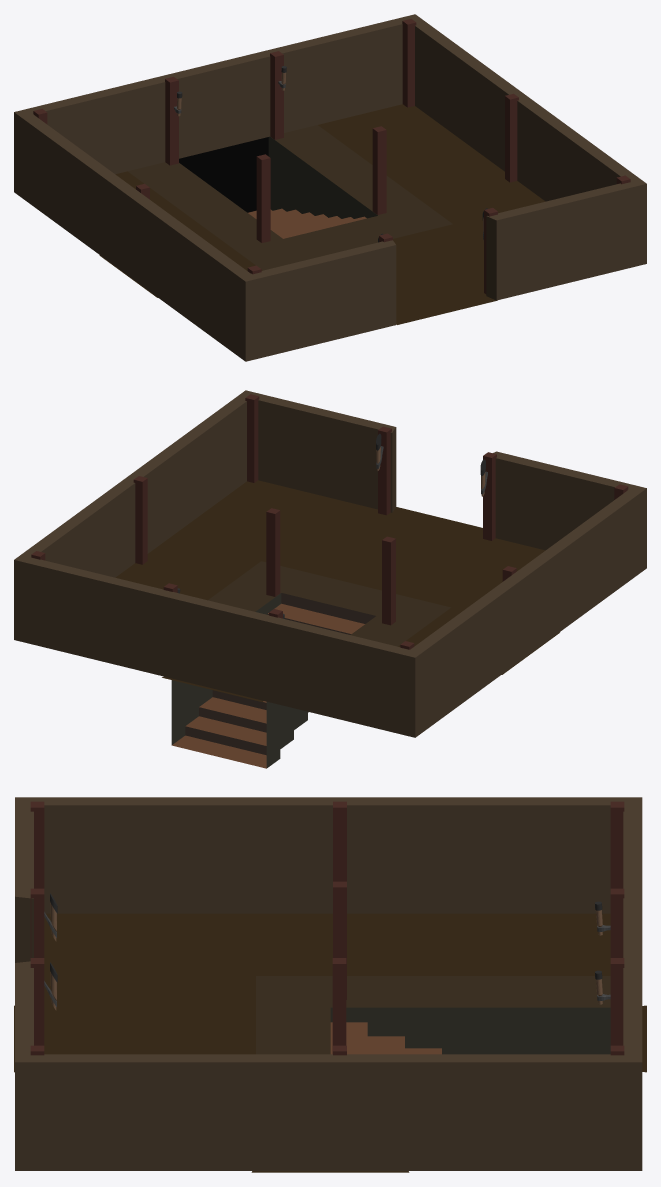
File: DirtStairRoom.fbx
3 views of the same model, one above another, from view 1: azimuth 30°, elevation 25°; view 2: azimuth 150°, elevation 25°; view 3: azimuth 270°, elevation 25° (orthographic). The views are drawn at different scales.
Parts seen in each view (by area): view 1: Room1.009, RoomFloor.014, Support.103, Support.104, Support.096, Support.095, Support.100, Support.102; view 2: Room1.009, RoomFloor.014, Support.104, Support.103, Support.102, Support.099, Support.094, Support.093; view 3: Room1.009, RoomFloor.014, Support.104, Support.095, Support.098, Support.101, Support.103, Support.097, Support.093, Support.096, Support.094.
Part boxes in pixels (x1,y1,x2,y2): Room1.009: [14, 14, 646, 361]; RoomFloor.014: [99, 104, 545, 324]; Support.103: [256, 154, 270, 242]; Support.104: [372, 126, 386, 214]; Support.096: [165, 76, 178, 165]; Support.095: [270, 51, 283, 139]; Support.100: [402, 19, 416, 107]; Support.102: [505, 93, 518, 182]; Room1.009: [14, 390, 646, 737]; RoomFloor.014: [115, 480, 559, 768]; Support.104: [266, 508, 280, 596]; Support.103: [382, 536, 395, 625]; Support.102: [133, 476, 147, 564]; Support.099: [245, 394, 259, 482]; Support.094: [483, 452, 496, 540]; Support.093: [378, 426, 391, 515]; Room1.009: [15, 797, 642, 1170]; RoomFloor.014: [14, 913, 646, 1172]; Support.104: [332, 958, 346, 1053]; Support.095: [610, 958, 624, 1045]; Support.098: [610, 801, 624, 888]; Support.101: [333, 801, 346, 881]; Support.103: [333, 881, 346, 999]; Support.097: [30, 801, 44, 888]; Support.093: [30, 958, 44, 1045]; Support.096: [610, 888, 624, 957]; Support.094: [30, 888, 44, 957].
Size of the model in its own units: 796 by 292 by 796.
